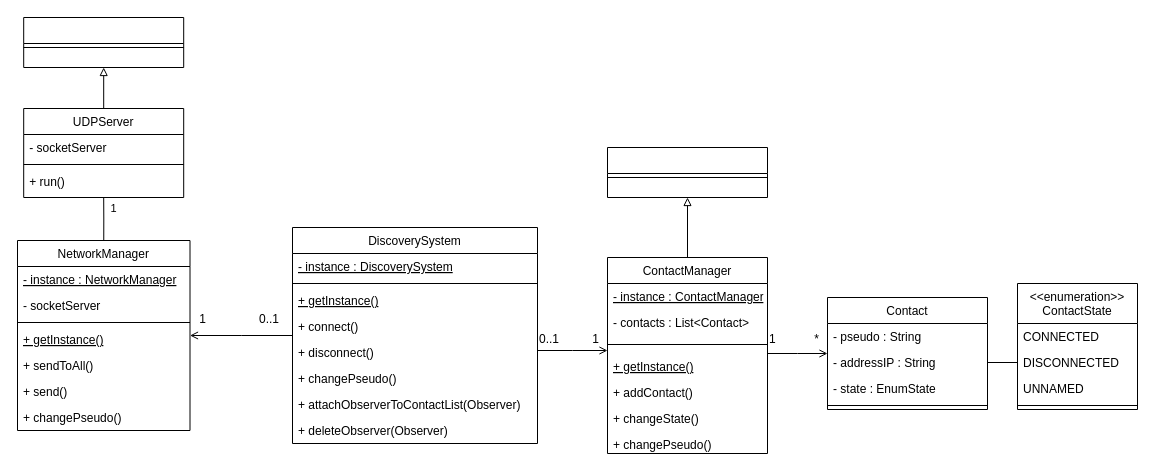
This 1155x474 diagram has some shape labels left out. Here are the shapes that lost their labels. From the top down, the centre of each, then its label:
At [103,42]: "Thread".
At [687,172]: "Subject".
